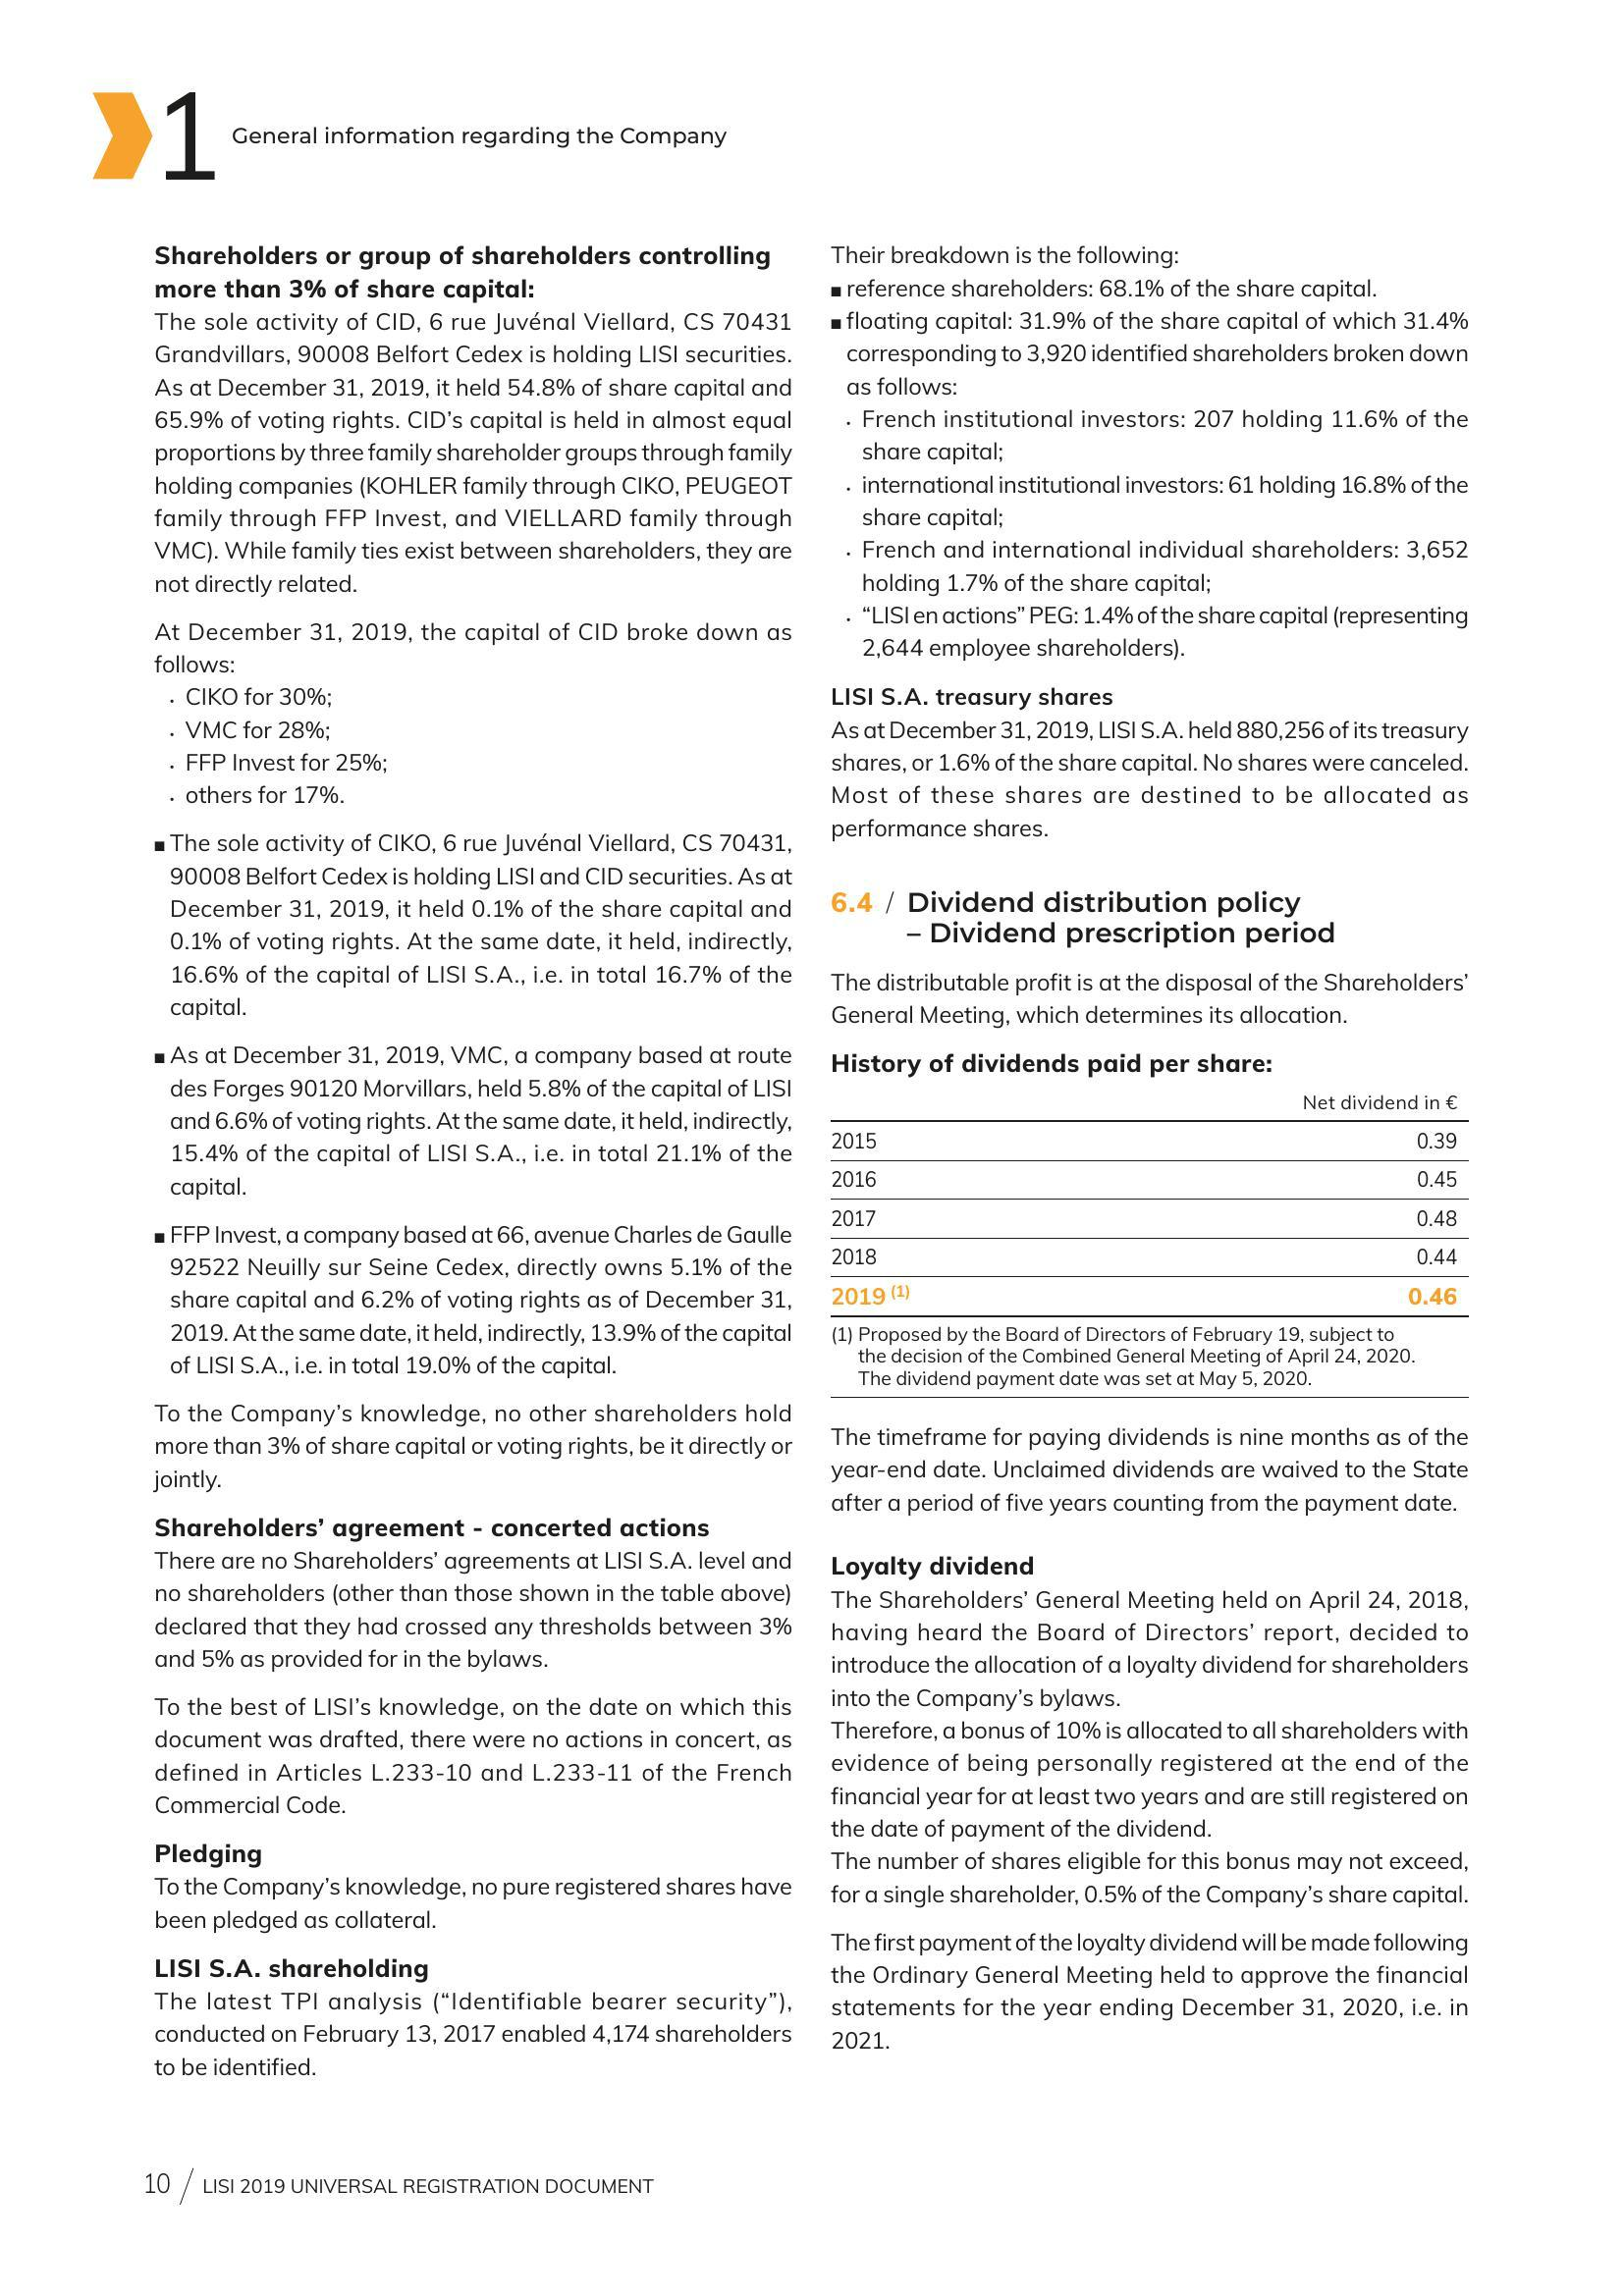cell: (828, 1079, 1471, 1123), (828, 1119, 1471, 1163), (826, 1198, 1471, 1240), (826, 1237, 1471, 1279), (826, 1275, 1471, 1318), (826, 1159, 1471, 1200)
table: (826, 1079, 1471, 1318)
